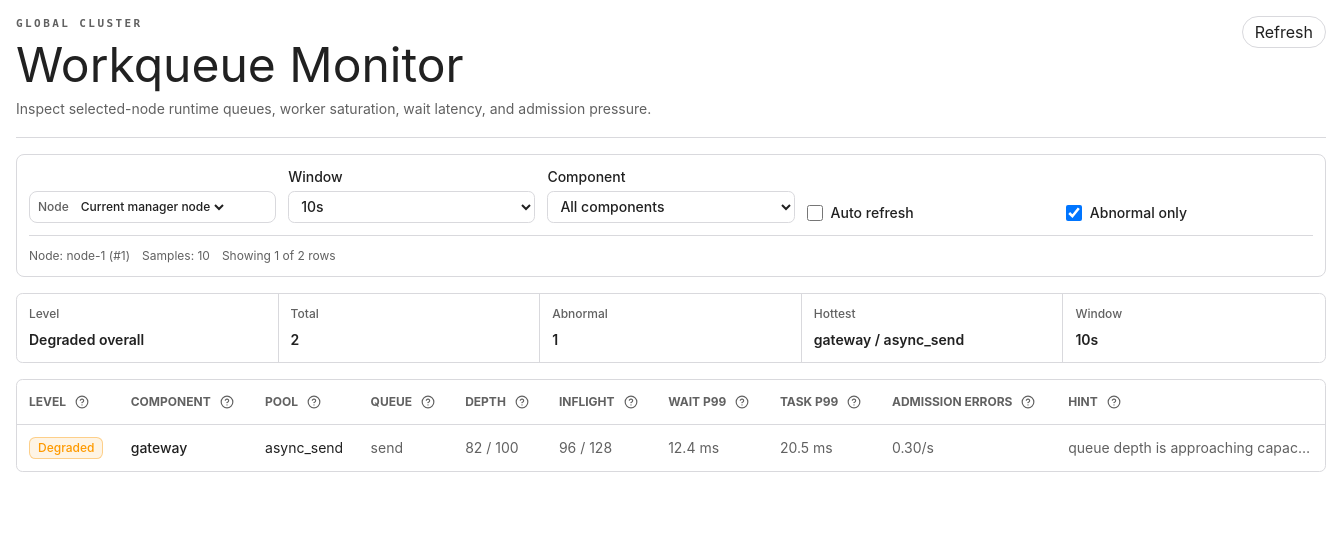
shows abnormal rows by default and lets operators include healthy rows
Expected: the text "async_send" is shown, [253,424,359,470]
Expected: the text "message_commit" is not shown
Click the checkbox labelled "Abnormal only": (1074, 212) [1066,204,1082,220]
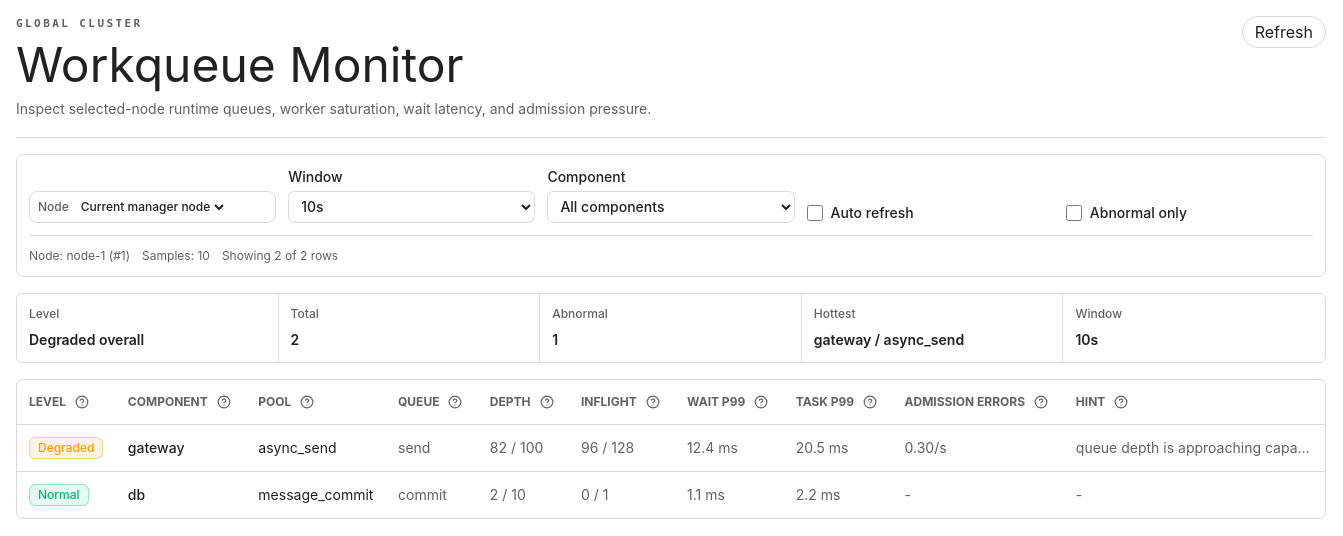
Expected: the text "message_commit" is shown, [246,471,386,518]
